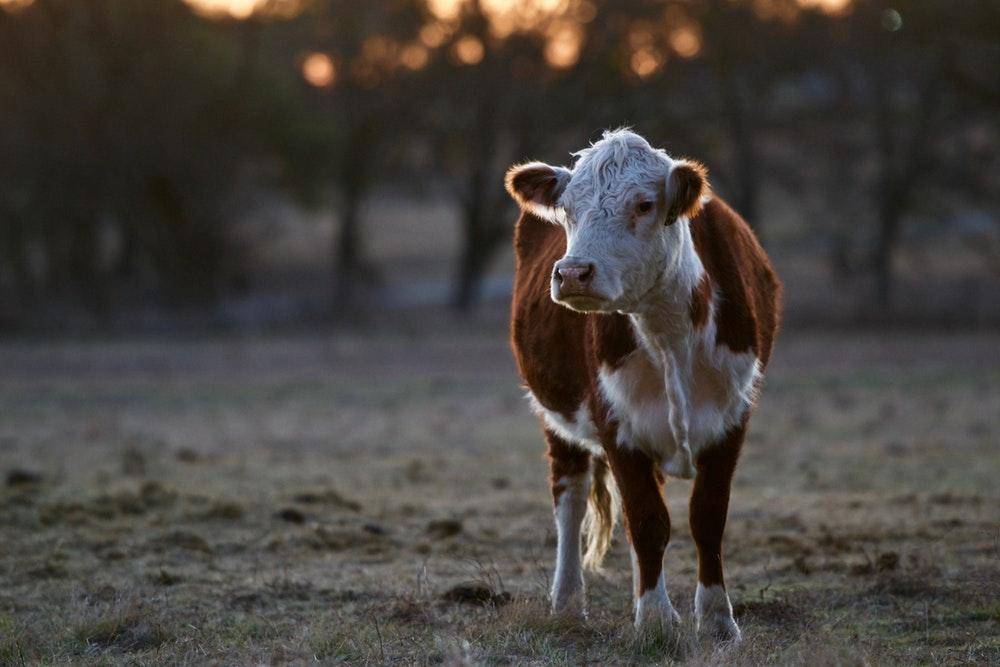muzzles: (541, 256, 621, 319)
